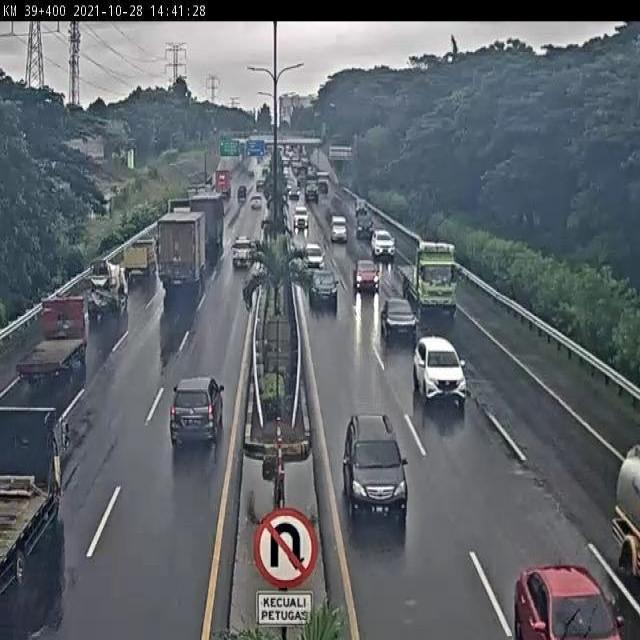car: (340, 412, 408, 521), (412, 336, 467, 407), (169, 377, 224, 447), (379, 297, 417, 340), (308, 270, 338, 310), (353, 260, 380, 293), (231, 236, 254, 267), (302, 243, 325, 273), (371, 229, 396, 256)
mid truck: (156, 211, 207, 284)
small truck: (123, 240, 157, 277)
truck-l-: (396, 239, 458, 316)
truck-m-: (17, 296, 88, 385), (85, 259, 130, 317)
